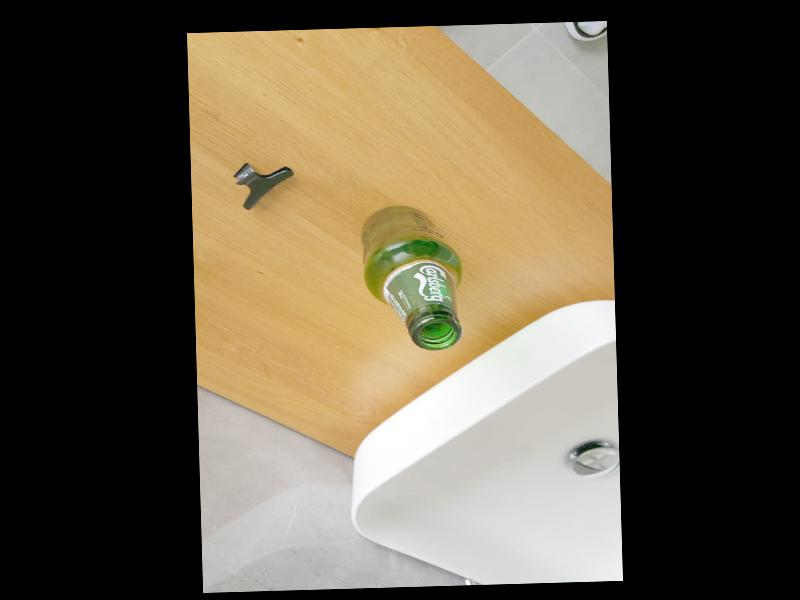Beer: (361, 202, 462, 351)
